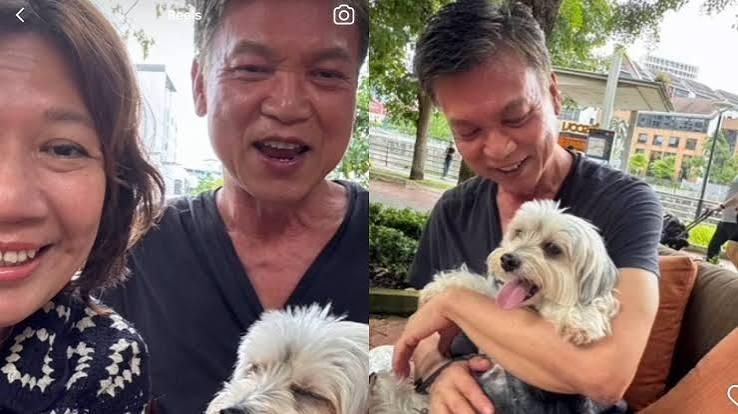adult_dog: (372, 200, 622, 414), (200, 299, 370, 414)
non-dog: (388, 0, 666, 414), (101, 0, 369, 414), (0, 1, 166, 414)
